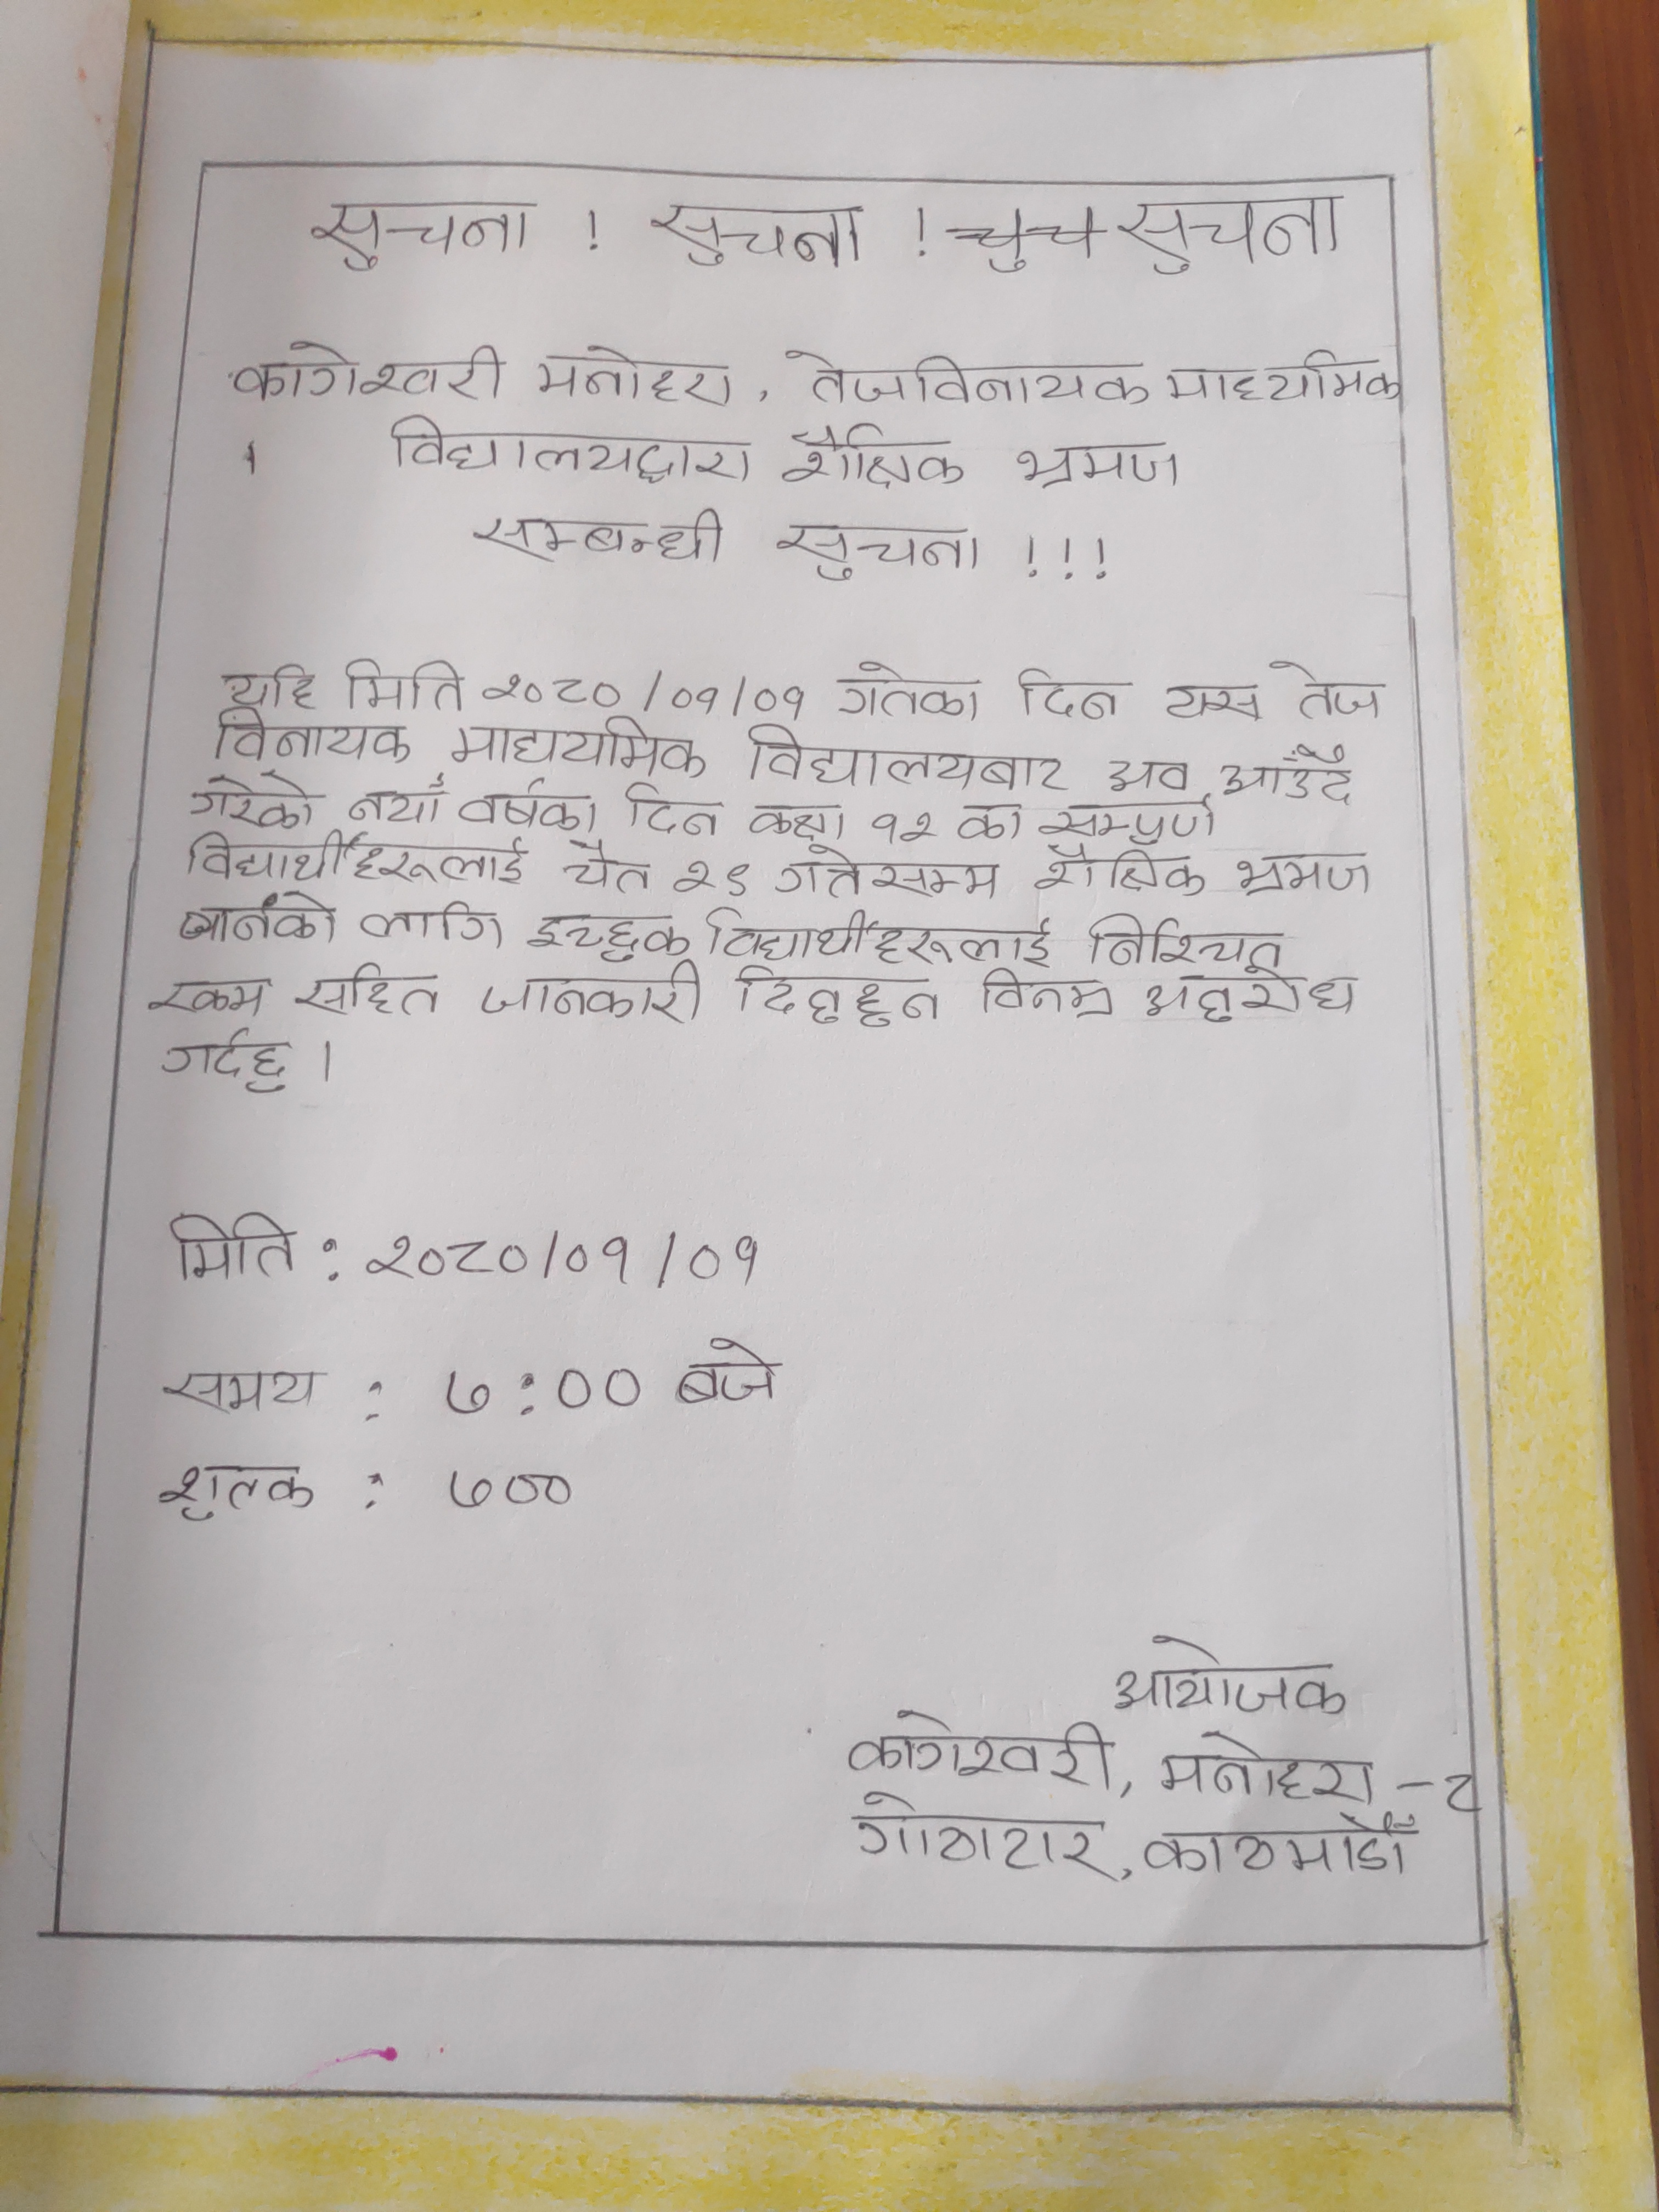text: (382, 408, 756, 484), (845, 1789, 1119, 1886), (697, 900, 1058, 970), (364, 1226, 760, 1289), (735, 723, 1077, 794), (779, 343, 1152, 408), (847, 1705, 1112, 1792), (1107, 1634, 1352, 1717), (192, 831, 526, 892), (1117, 188, 1345, 272), (234, 334, 511, 402), (308, 197, 540, 275), (641, 195, 868, 273), (1138, 1815, 1413, 1879), (479, 669, 816, 721), (1155, 1731, 1377, 1808), (467, 502, 735, 564), (772, 514, 990, 587), (450, 719, 708, 780), (477, 960, 706, 1028), (1155, 347, 1396, 408), (730, 961, 945, 1029), (532, 340, 739, 408), (772, 421, 972, 489), (1141, 967, 1363, 1026), (772, 848, 1002, 902), (209, 704, 413, 761), (1087, 913, 1284, 970), (446, 1366, 643, 1423), (155, 1463, 319, 1527), (1014, 434, 1190, 493), (166, 1209, 301, 1284), (1037, 794, 1225, 848), (833, 660, 988, 721), (1220, 740, 1358, 808), (157, 1029, 298, 1096), (178, 890, 340, 948), (159, 1366, 324, 1421), (673, 1332, 786, 1413), (1033, 846, 1206, 899), (293, 961, 444, 1021), (457, 779, 601, 838), (356, 895, 507, 949), (188, 772, 321, 833), (1272, 655, 1391, 723), (1229, 850, 1380, 902), (444, 1460, 579, 1517), (528, 913, 692, 960), (978, 970, 1115, 1026), (342, 653, 469, 712), (1014, 664, 1129, 725), (619, 777, 723, 841), (141, 977, 272, 1022), (559, 840, 657, 897), (739, 799, 850, 846), (220, 660, 322, 709), (1157, 676, 1262, 723), (347, 786, 448, 826), (671, 855, 756, 900), (1101, 752, 1194, 792), (957, 799, 1030, 846), (870, 801, 938, 846)
